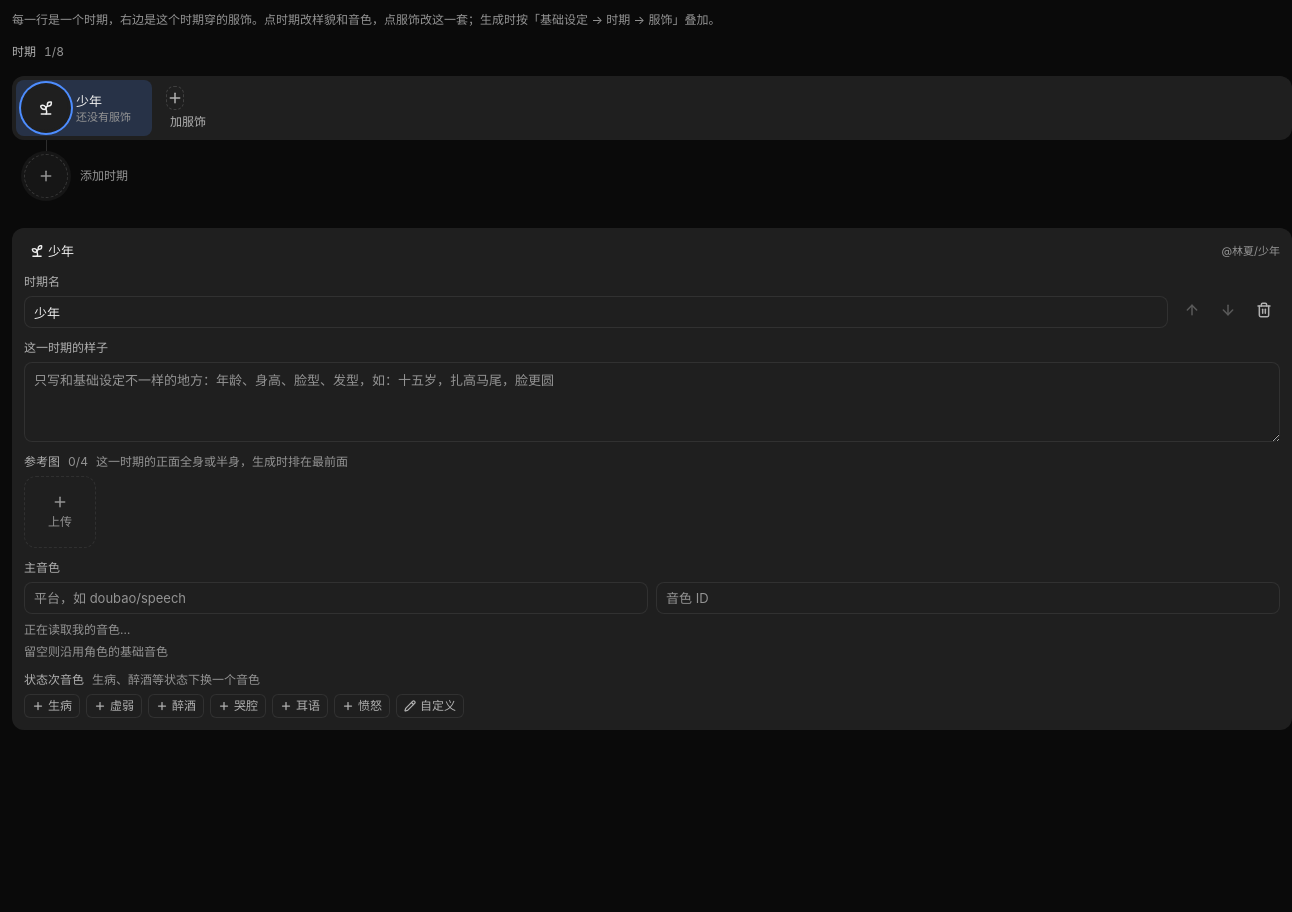
Test: 角色档案面板 › 自定义名字撞上档案里已有的名字时，说明被谁占了且不添加
Click the button "添加时期": (78, 176) x1=16 y1=148 x2=140 y2=204
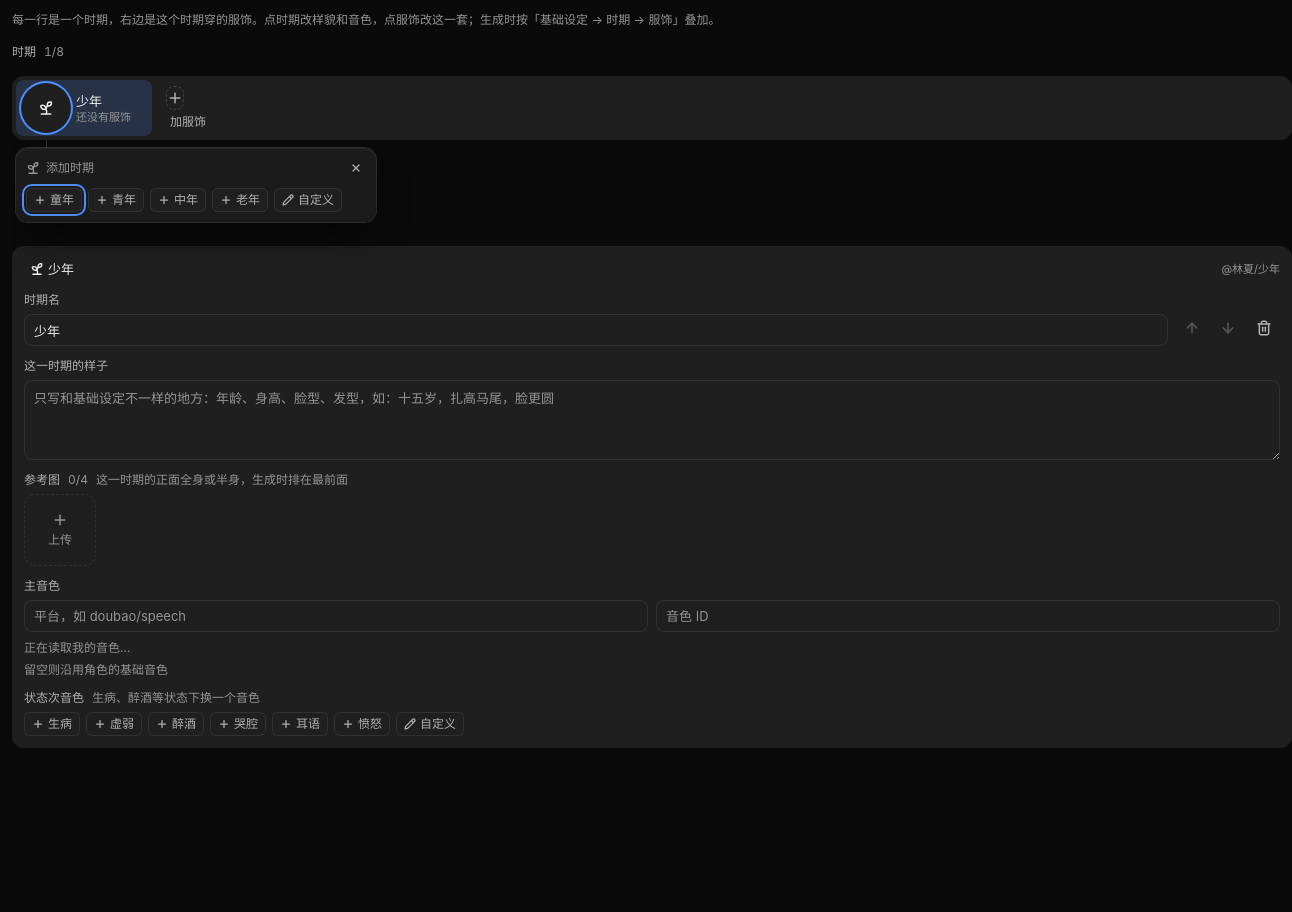
Click the button "自定义" below "添加时期": (308, 200) x1=274 y1=188 x2=342 y2=212
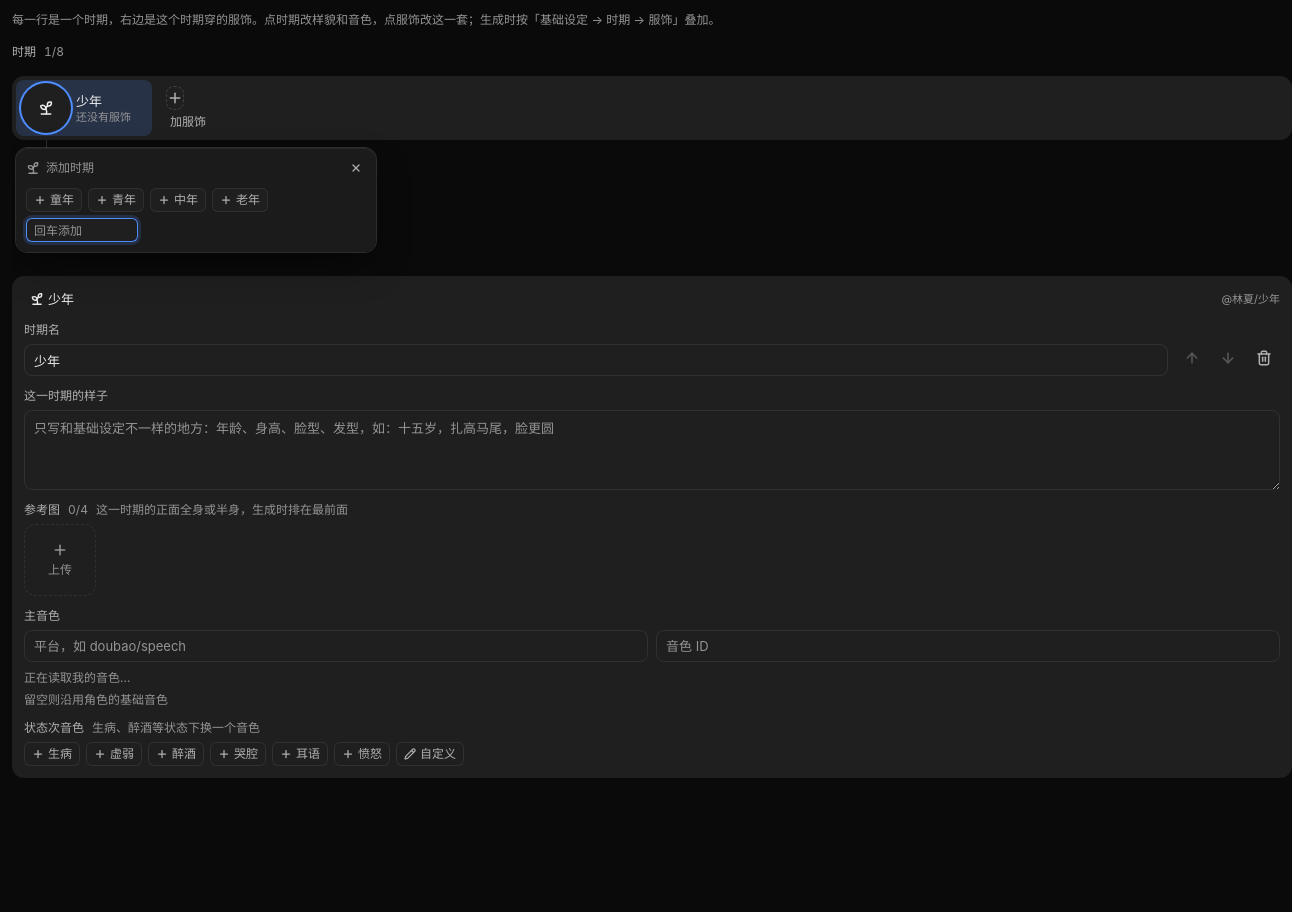
In the field named "自定义名字": (82, 230) x1=26 y1=218 x2=138 y2=242, type "少年"
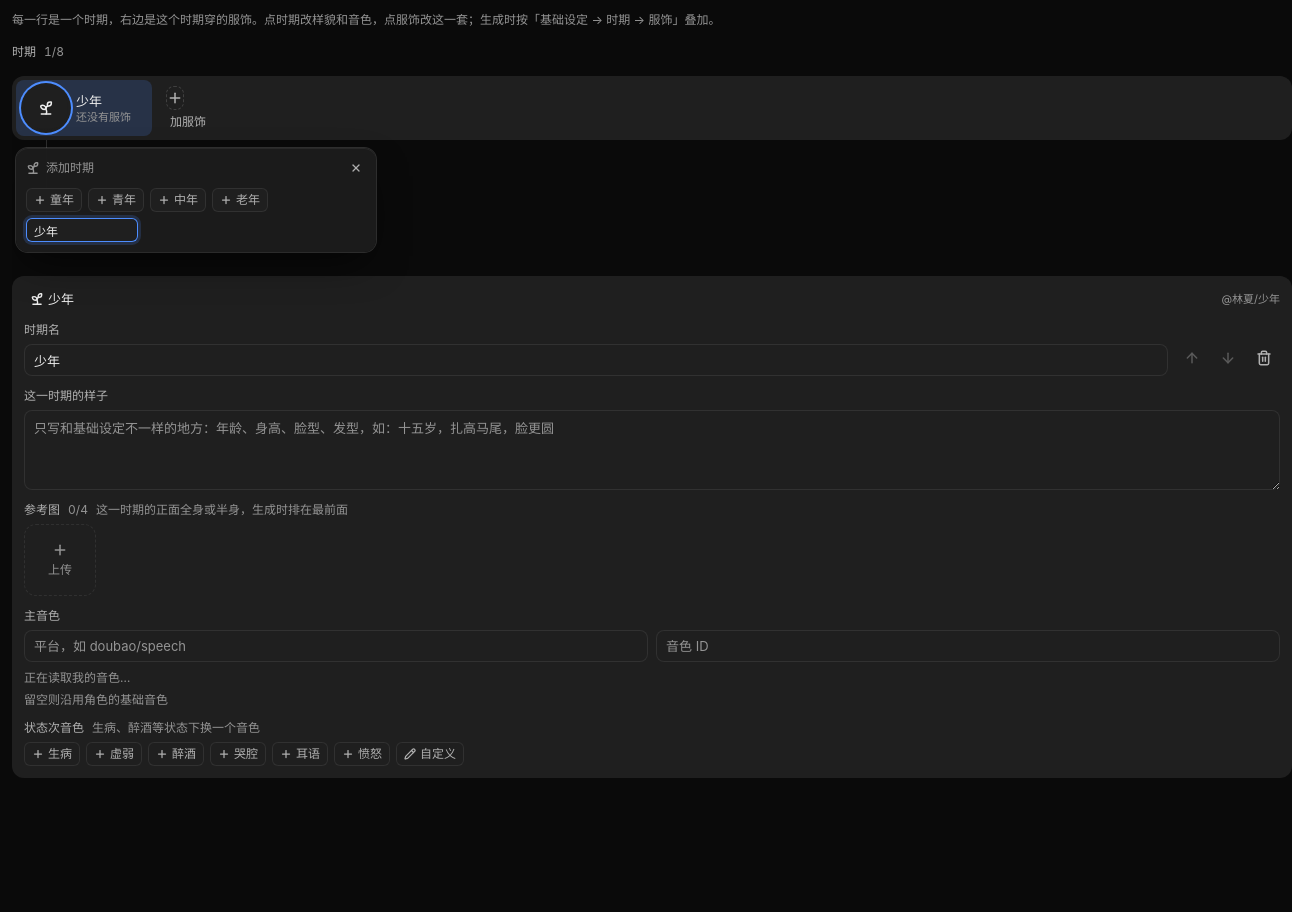
Press Enter in the field named "自定义名字", box x1=26 y1=218 x2=138 y2=242
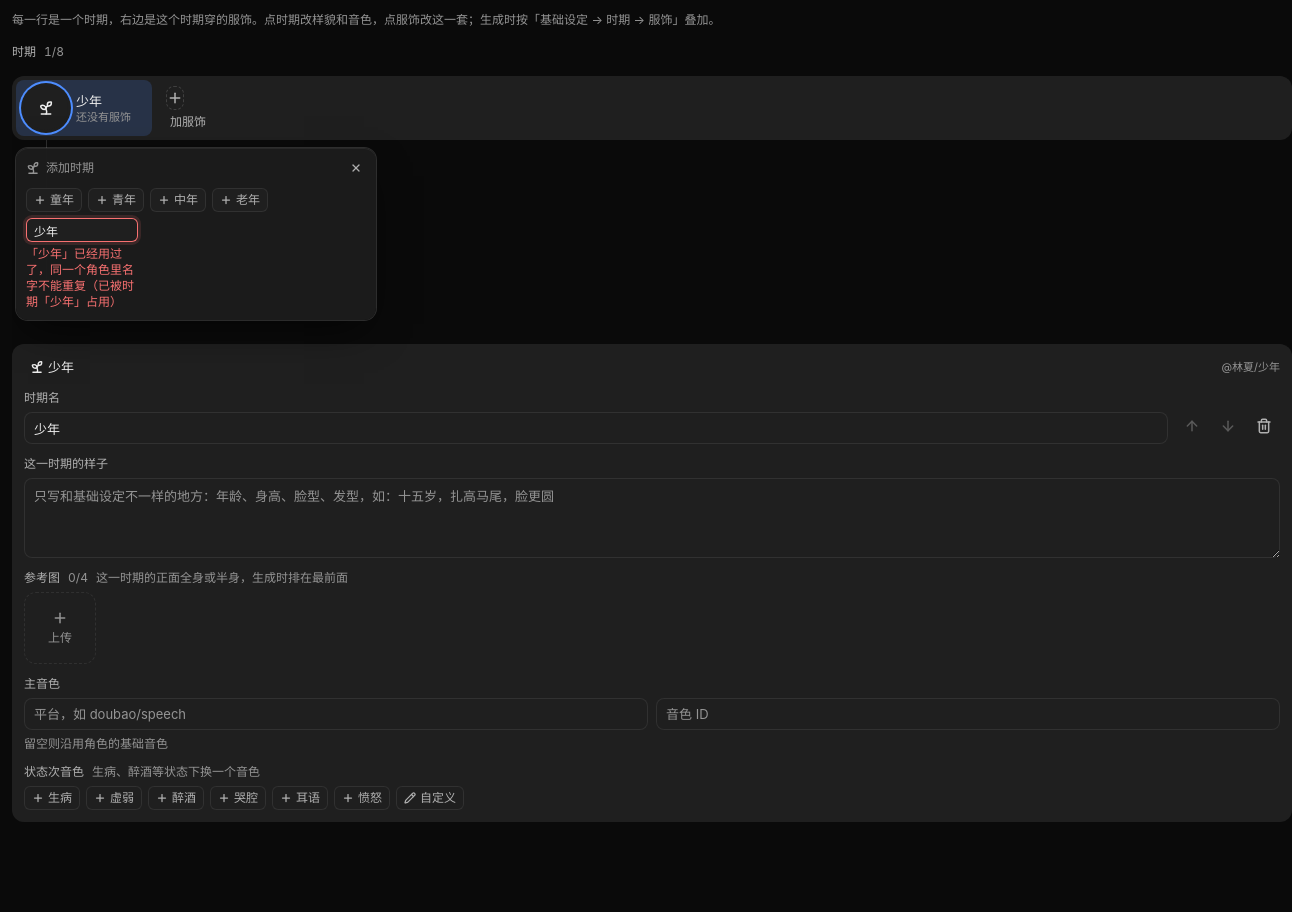
Result: the message shows "已经用过了" at x1=26 y1=246 x2=134 y2=309
Result: the message shows "时期「少年」" at x1=26 y1=246 x2=134 y2=309
